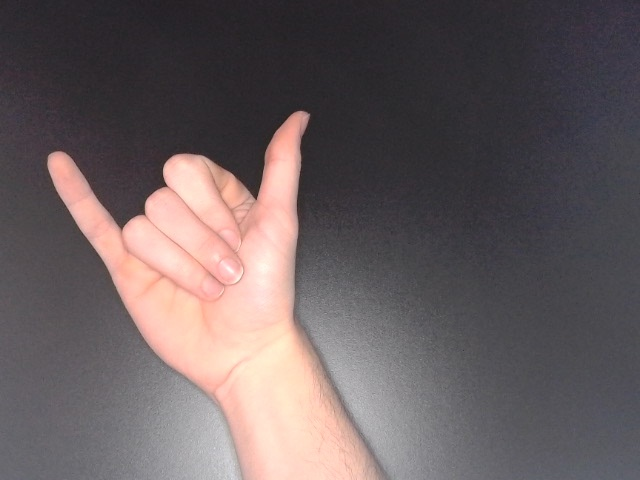y: (35, 105, 319, 406)
